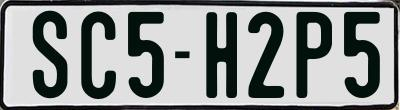2: (246, 10, 283, 98)
5: (342, 9, 383, 97), (127, 12, 164, 99)
C: (79, 9, 116, 99)
H: (204, 11, 236, 98)
P: (293, 9, 335, 96)
S: (33, 10, 67, 99)
